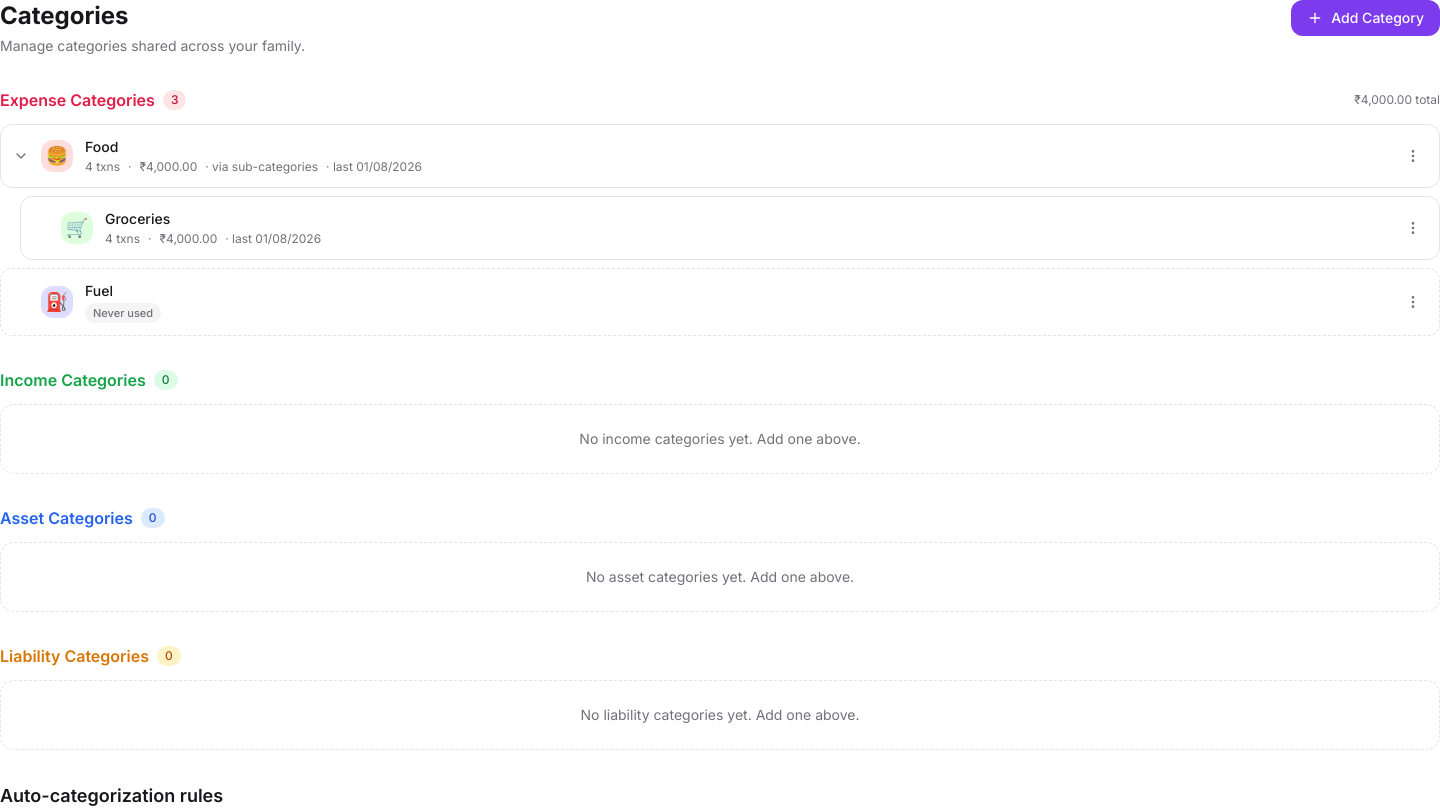
Test: Categories page — safe delete › deletes an unused category without asking anything
The width and height of the screenshot is (1440, 810).
Expected: the text "Fuel" is shown, [85,281,113,301]
Click the button named "actions for fuel".
click(1413, 302)  # box [1399,288,1427,316]
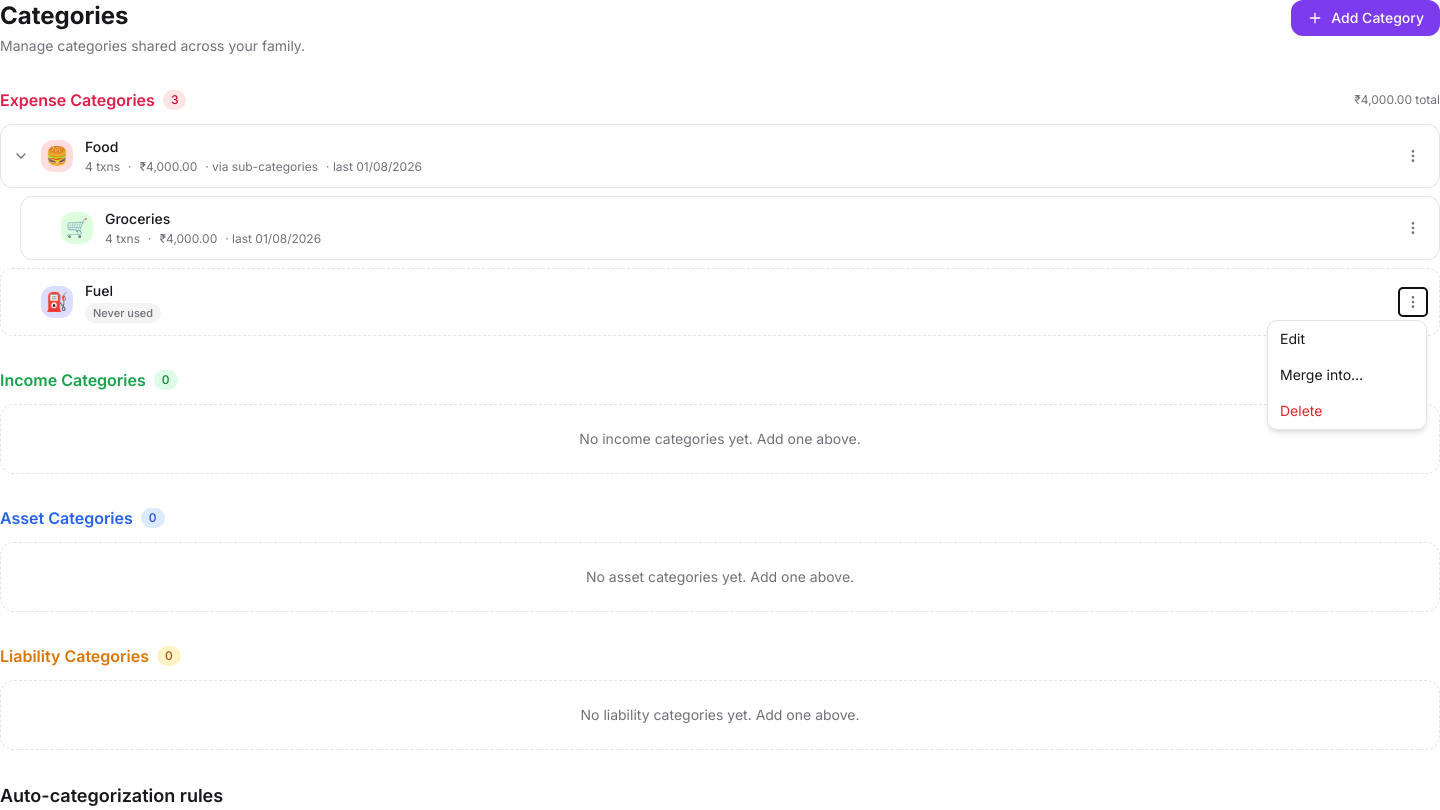
Click the button "Delete".
click(1347, 411)  # box [1268,393,1426,429]
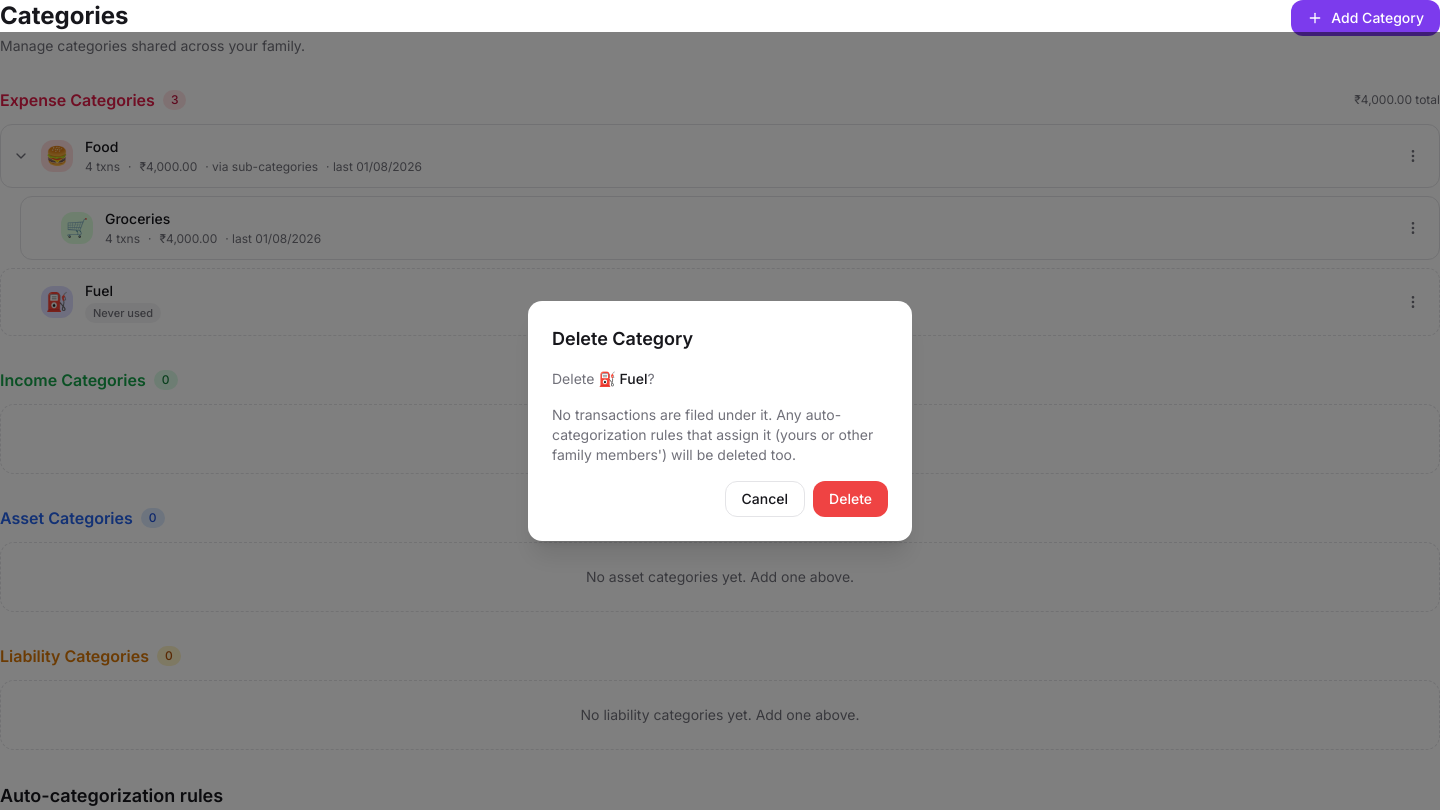
Expected: the text "No transactions are filed under it" is shown, [552,406,873,463]
Expected: the button "Delete" is enabled, [813,481,888,517]
